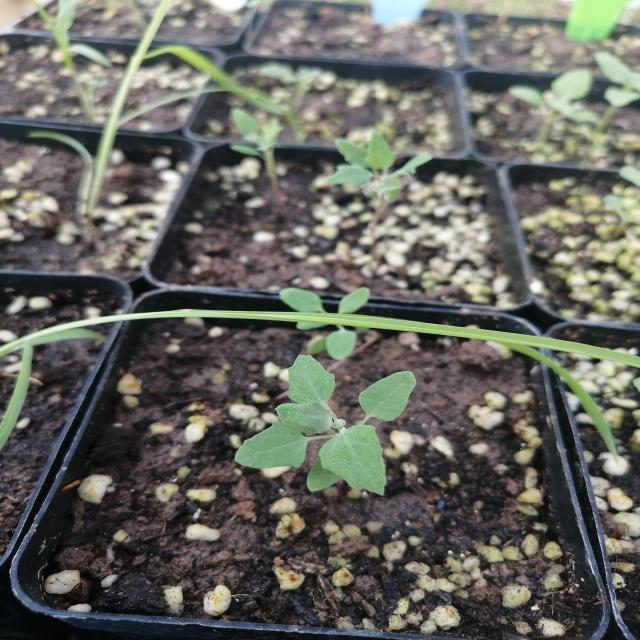goosefoots: (205, 344, 440, 498), (305, 120, 474, 225)
